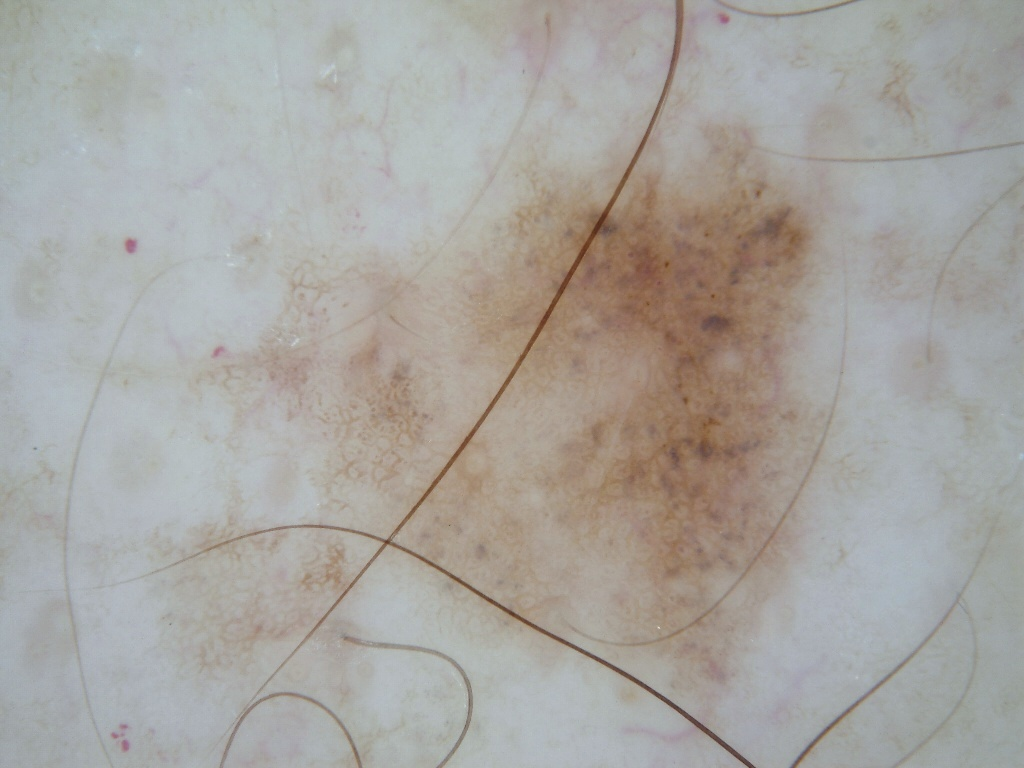Detected Lesion: (95, 1, 840, 760)
